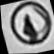correct: (2, 0, 54, 50)
